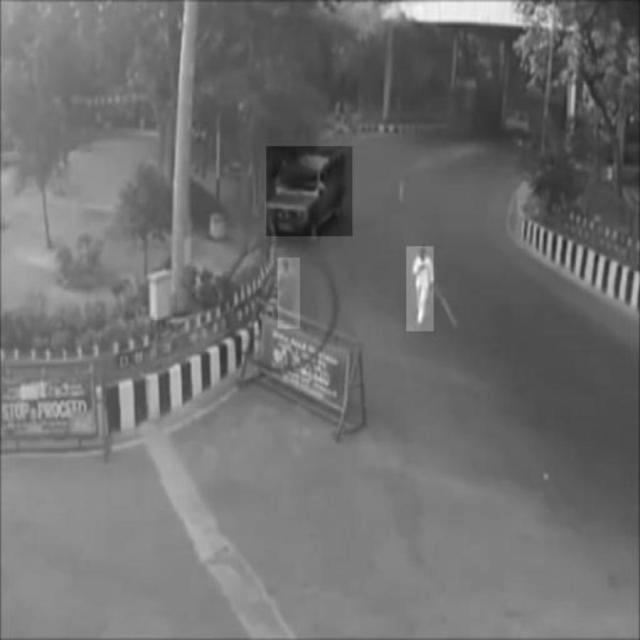vehicle: (267, 147, 353, 237), (407, 246, 434, 330), (278, 258, 300, 329)
